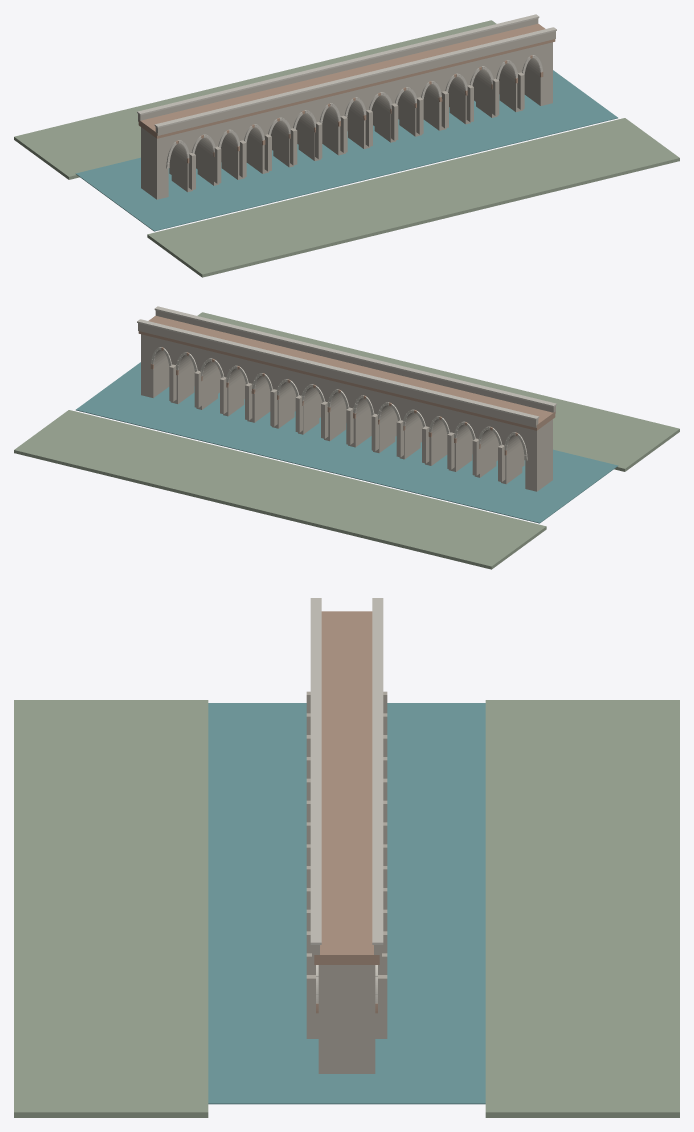
The model's file is khudafarin_15_arches.glb.
3 renders of one model, top to bottom at view 1: azimuth 30°, elevation 25°; view 2: azimuth 150°, elevation 25°; view 3: azimuth 270°, elevation 25°, orthographic. The views are drawn at different scales.
Visible parts, largest first — view 1: khudafarin_15_arches_grass, khudafarin_15_arches_stone, khudafarin_15_arches_water, khudafarin_15_arches_light, khudafarin_15_arches_brick; view 2: khudafarin_15_arches_grass, khudafarin_15_arches_stone, khudafarin_15_arches_water, khudafarin_15_arches_light, khudafarin_15_arches_brick; view 3: khudafarin_15_arches_grass, khudafarin_15_arches_water, khudafarin_15_arches_brick, khudafarin_15_arches_stone, khudafarin_15_arches_light.
Part boxes in pixels (x1,y1,x2,y2): khudafarin_15_arches_grass: [14, 20, 679, 277]; khudafarin_15_arches_stone: [138, 18, 555, 199]; khudafarin_15_arches_water: [75, 70, 617, 231]; khudafarin_15_arches_light: [137, 14, 556, 168]; khudafarin_15_arches_brick: [138, 23, 555, 163]; khudafarin_15_arches_grass: [14, 312, 679, 569]; khudafarin_15_arches_stone: [138, 310, 555, 491]; khudafarin_15_arches_water: [76, 362, 618, 523]; khudafarin_15_arches_light: [137, 306, 556, 460]; khudafarin_15_arches_brick: [138, 315, 555, 455]; khudafarin_15_arches_grass: [14, 700, 679, 1117]; khudafarin_15_arches_water: [208, 703, 485, 1104]; khudafarin_15_arches_brick: [314, 611, 379, 1013]; khudafarin_15_arches_stone: [306, 691, 387, 1073]; khudafarin_15_arches_light: [310, 598, 383, 1003].
Size of the model in its own units: 35.15 by 5.62 by 24.
